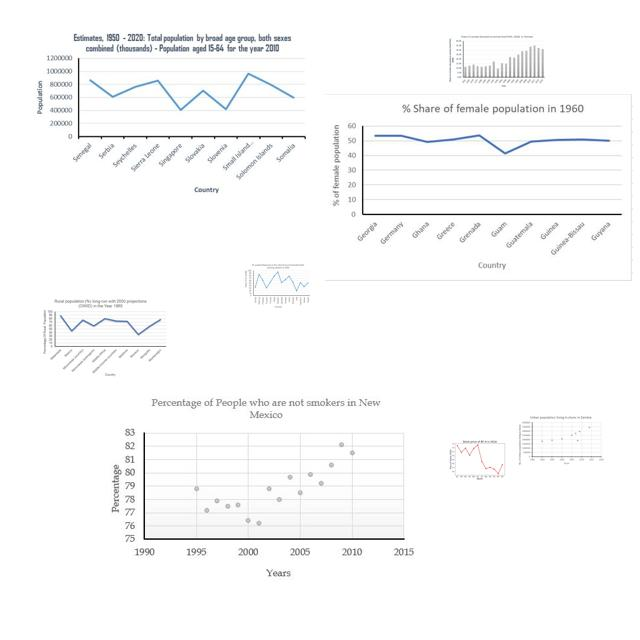Graph: (105, 391, 419, 583), (325, 94, 633, 281), (29, 27, 310, 195), (40, 297, 168, 378), (448, 33, 547, 89), (516, 414, 605, 466), (243, 262, 311, 309), (447, 435, 511, 483)
